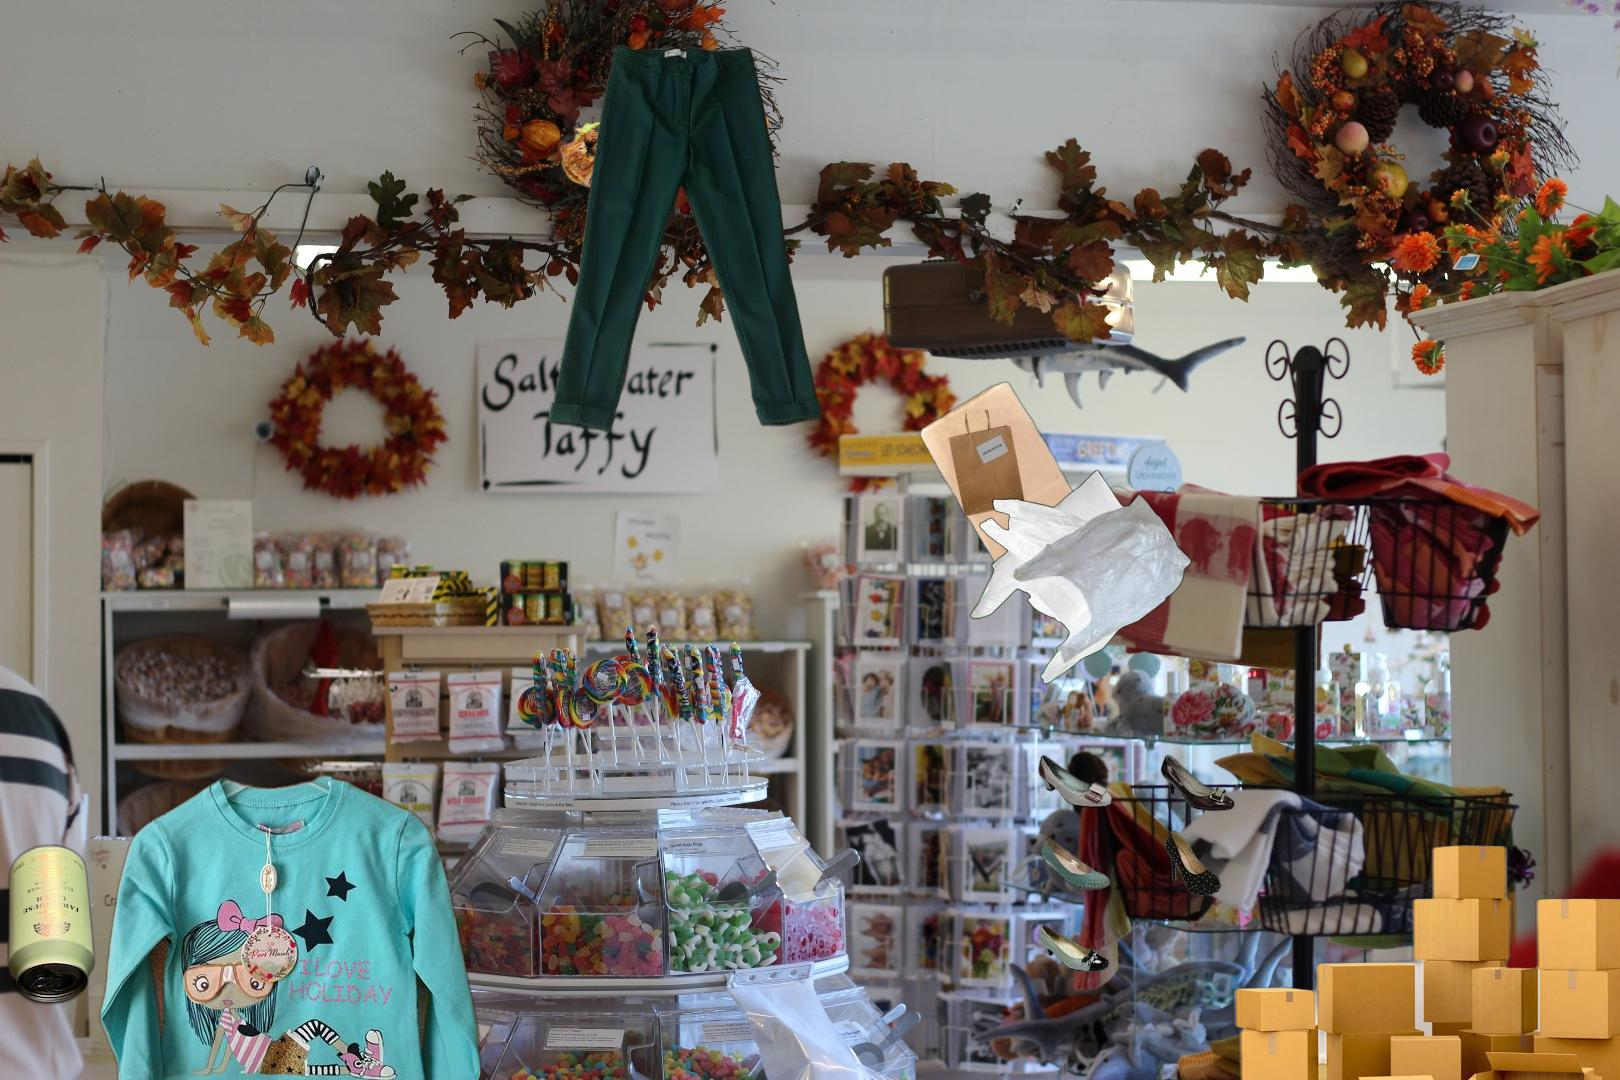biological: (540, 93, 771, 192)
clothes: (96, 726, 482, 1080), (545, 40, 824, 438)
metal-cans: (2, 840, 99, 1010)
paper-bag: (917, 378, 1100, 586)
plastic-bag: (968, 468, 1195, 687)
shoes: (1031, 752, 1238, 984)
trashbox-cardboard: (1227, 843, 1620, 1080)
